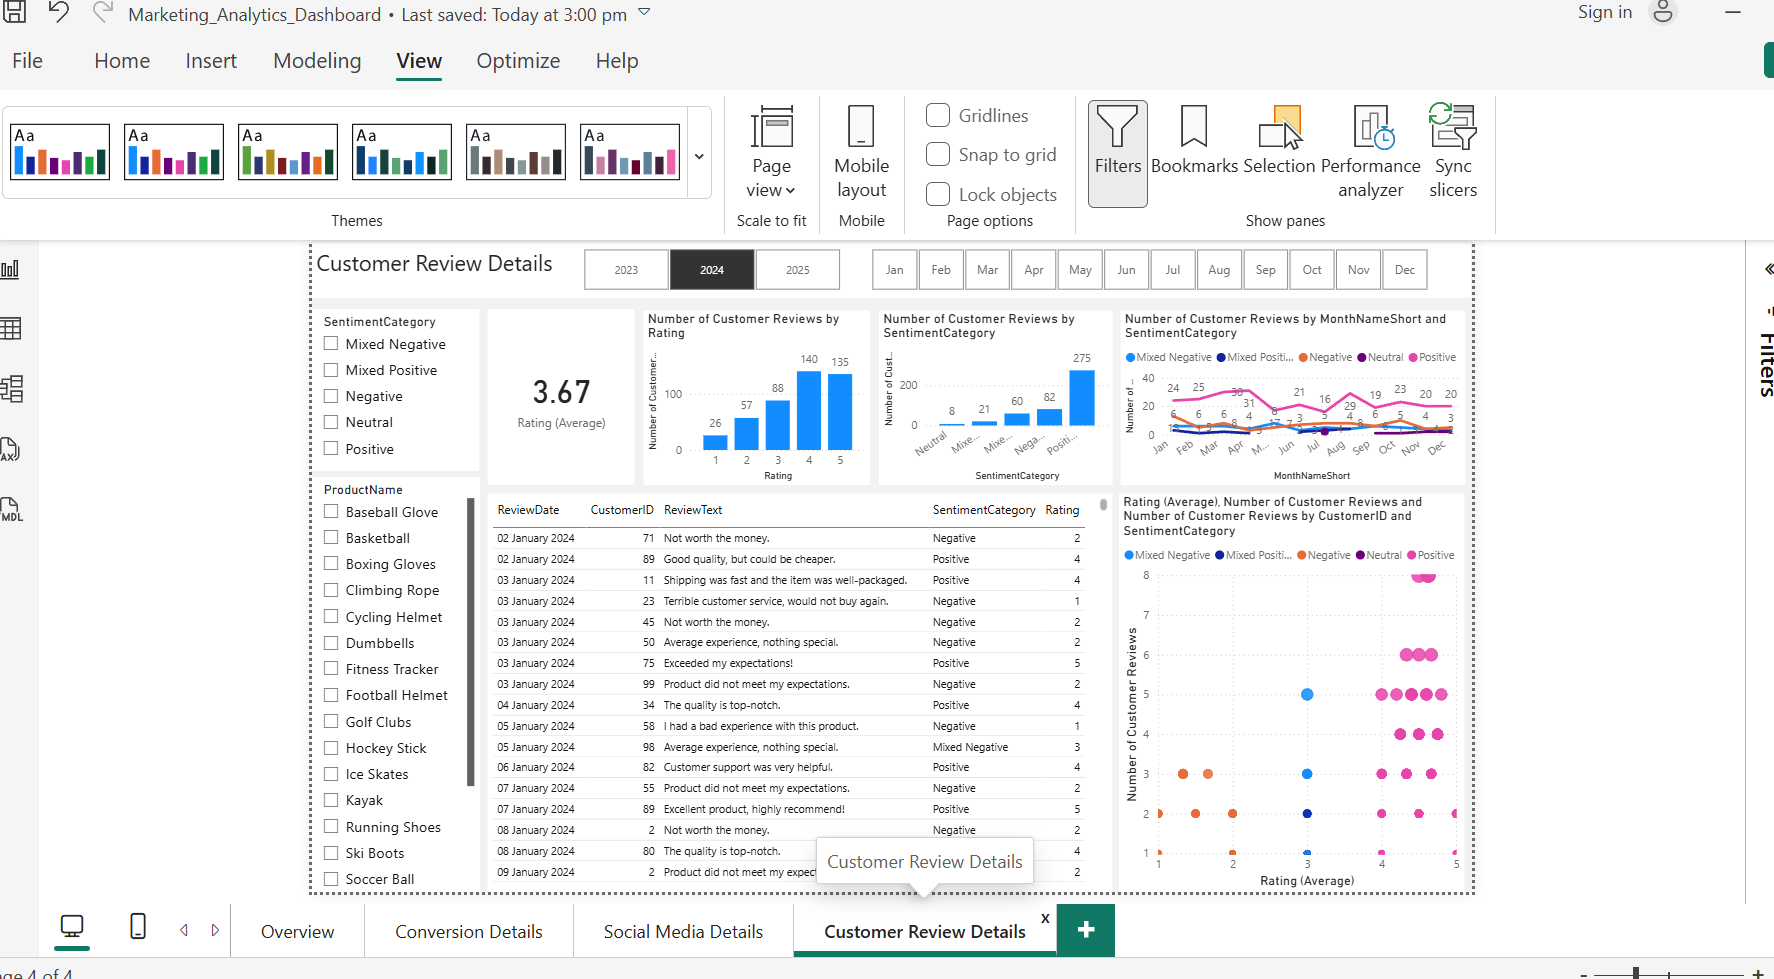

What the dashboard file says about the page in this screenshot:
{"tool":"powerbi","page":{"name":"Customer Review Details","canvas":[1280,720],"ordinal":3},"visuals":[{"type":"textbox","box":[0,3.6,1280,60.7],"z":0},{"type":"slicer","fields":{"Values":["fact_customer_reviews_with_sentiment.SentimentCategory"]},"box":[0,76.1,184.4,178.4],"z":1000},{"type":"card","fields":{"Values":["_Calculations.Rating (Average)"]},"box":[193.9,76.1,163,193.9],"z":2000},{"type":"slicer","fields":{"Values":["Calendar.Year"]},"box":[274.8,3.6,331.9,58.3],"z":3000},{"type":"slicer","fields":{"Values":["Calendar.MonthNameShort"]},"box":[592.4,3.6,662.6,58.3],"z":4000},{"type":"clusteredColumnChart","fields":{"Y":["_Calculations.Number of Customer Reviews"],"Category":["fact_customer_reviews_with_sentiment.Rating"]},"box":[366.4,77.3,249.8,192.7],"z":5000},{"type":"clusteredColumnChart","fields":{"Y":["_Calculations.Number of Customer Reviews"],"Category":["fact_customer_reviews_with_sentiment.SentimentCategory"]},"box":[625.7,77.3,258.1,192.7],"z":6000},{"type":"lineChart","fields":{"Y":["_Calculations.Number of Customer Reviews"],"Category":["Calendar.MonthNameShort"],"Series":["fact_customer_reviews_with_sentiment.SentimentCategory"]},"box":[892.2,77.3,380.7,192.7],"z":7000},{"type":"tableEx","fields":{"Values":["fact_customer_reviews_with_sentiment.ReviewDate","fact_customer_reviews_with_sentiment.CustomerID","fact_customer_reviews_with_sentiment.ReviewText","fact_customer_reviews_with_sentiment.SentimentCategory","fact_customer_reviews_with_sentiment.Rating"]},"box":[193.9,279.6,690,440.1],"z":8000},{"type":"scatterChart","fields":{"X":["_Calculations.Rating (Average)"],"Y":["_Calculations.Number of Customer Reviews"],"Category":["fact_customer_reviews_with_sentiment.CustomerID"],"Series":["fact_customer_reviews_with_sentiment.SentimentCategory"],"Size":["_Calculations.Number of Customer Reviews"]},"box":[892,280,381,440],"z":9000},{"type":"slicer","fields":{"Values":["dim_products.ProductName"]},"box":[0,261.7,184.4,458],"z":10000}]}

Visuals, with their boxes on the page's 1280x720 design canvas (x1, y1, x2, y2). These are canvas units, not pixel positions in the 1774x979 screenshot, which may show the page scaled, cropped or inside an application window:
textbox: x1=0 y1=4 x2=1280 y2=64
slicer - fact_customer_reviews_with_sentiment.SentimentCategory: x1=0 y1=76 x2=184 y2=254
card - _Calculations.Rating (Average): x1=194 y1=76 x2=357 y2=270
slicer - Calendar.Year: x1=275 y1=4 x2=607 y2=62
slicer - Calendar.MonthNameShort: x1=592 y1=4 x2=1255 y2=62
clusteredColumnChart - _Calculations.Number of Customer Reviews x fact_customer_reviews_with_sentiment.Rating: x1=366 y1=77 x2=616 y2=270
clusteredColumnChart - _Calculations.Number of Customer Reviews x fact_customer_reviews_with_sentiment.SentimentCategory: x1=626 y1=77 x2=884 y2=270
lineChart - _Calculations.Number of Customer Reviews x Calendar.MonthNameShort: x1=892 y1=77 x2=1273 y2=270
tableEx - fact_customer_reviews_with_sentiment.ReviewDate x fact_customer_reviews_with_sentiment.CustomerID: x1=194 y1=280 x2=884 y2=720
scatterChart - _Calculations.Rating (Average) x _Calculations.Number of Customer Reviews: x1=892 y1=280 x2=1273 y2=720
slicer - dim_products.ProductName: x1=0 y1=262 x2=184 y2=720
